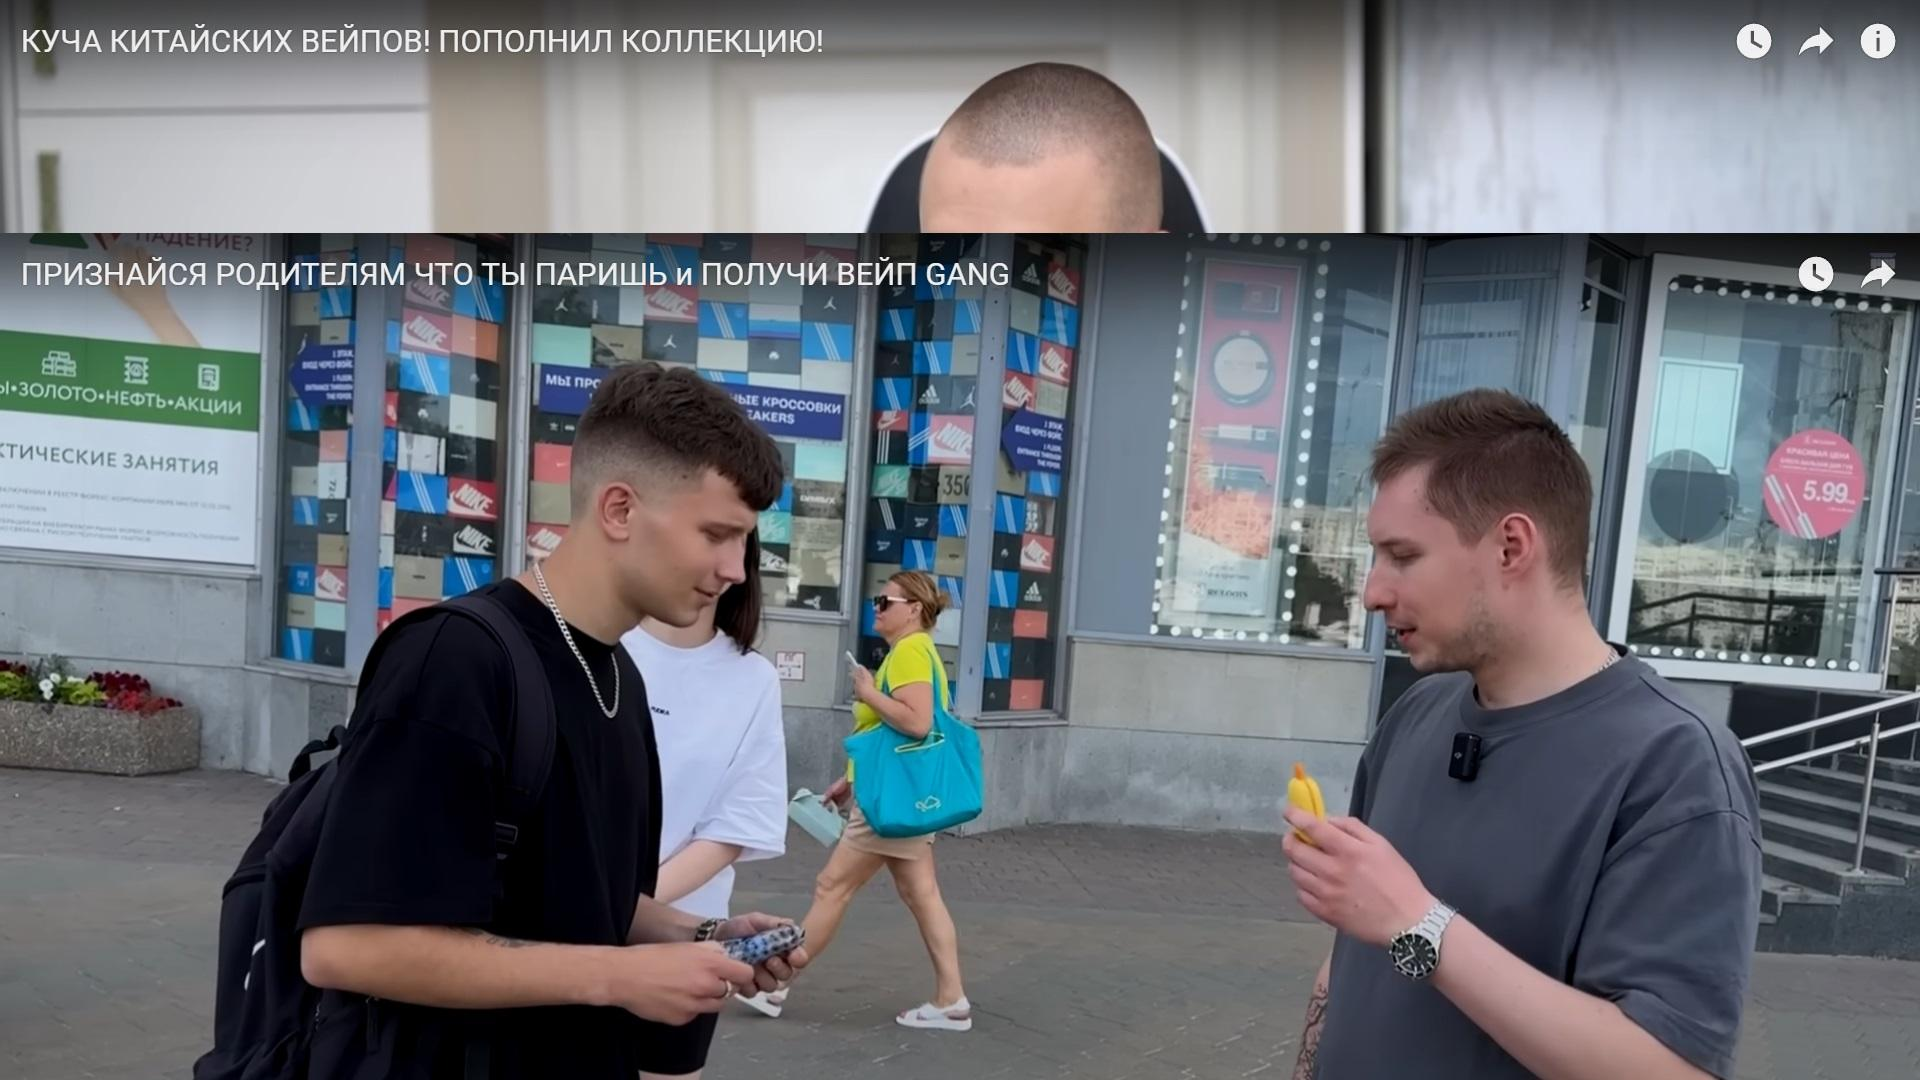Vape: (1287, 764, 1327, 816)
